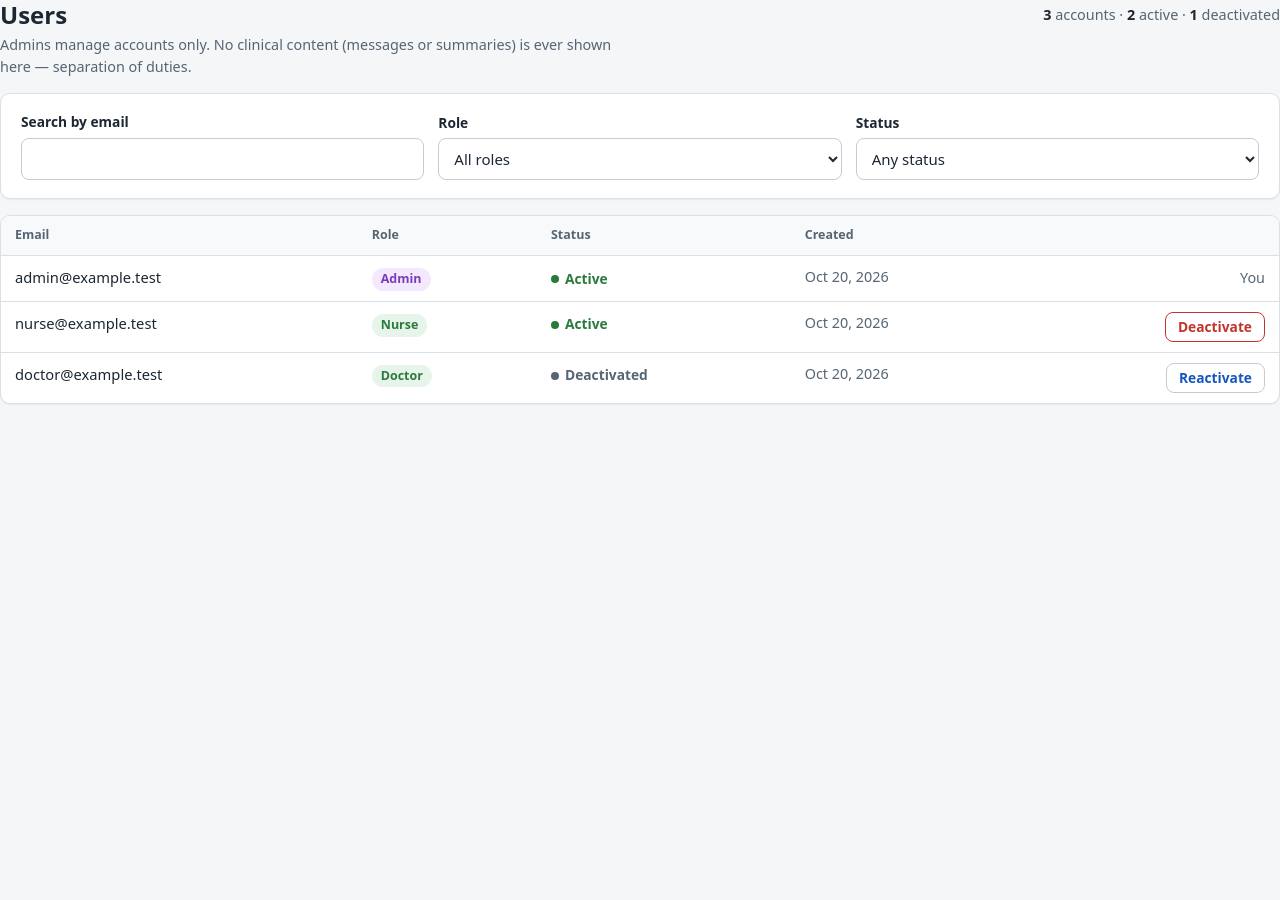
Test: AdminUsers screen › shows an action error when deactivation fails
Click the button "Deactivate" at (1215, 327), box [1165,312,1265,342]
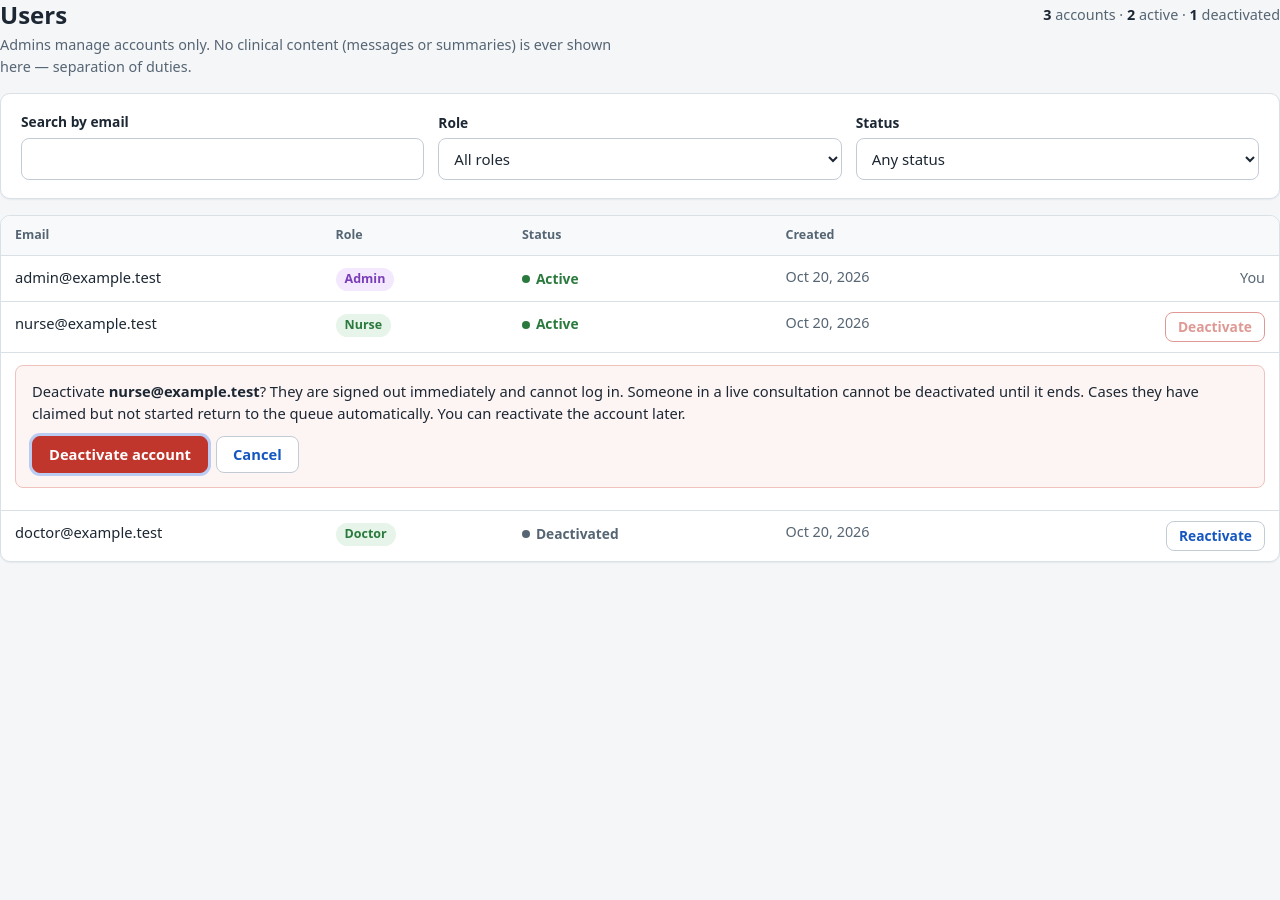
Click the button "Deactivate account" at (120, 454), box [32,436,208,473]
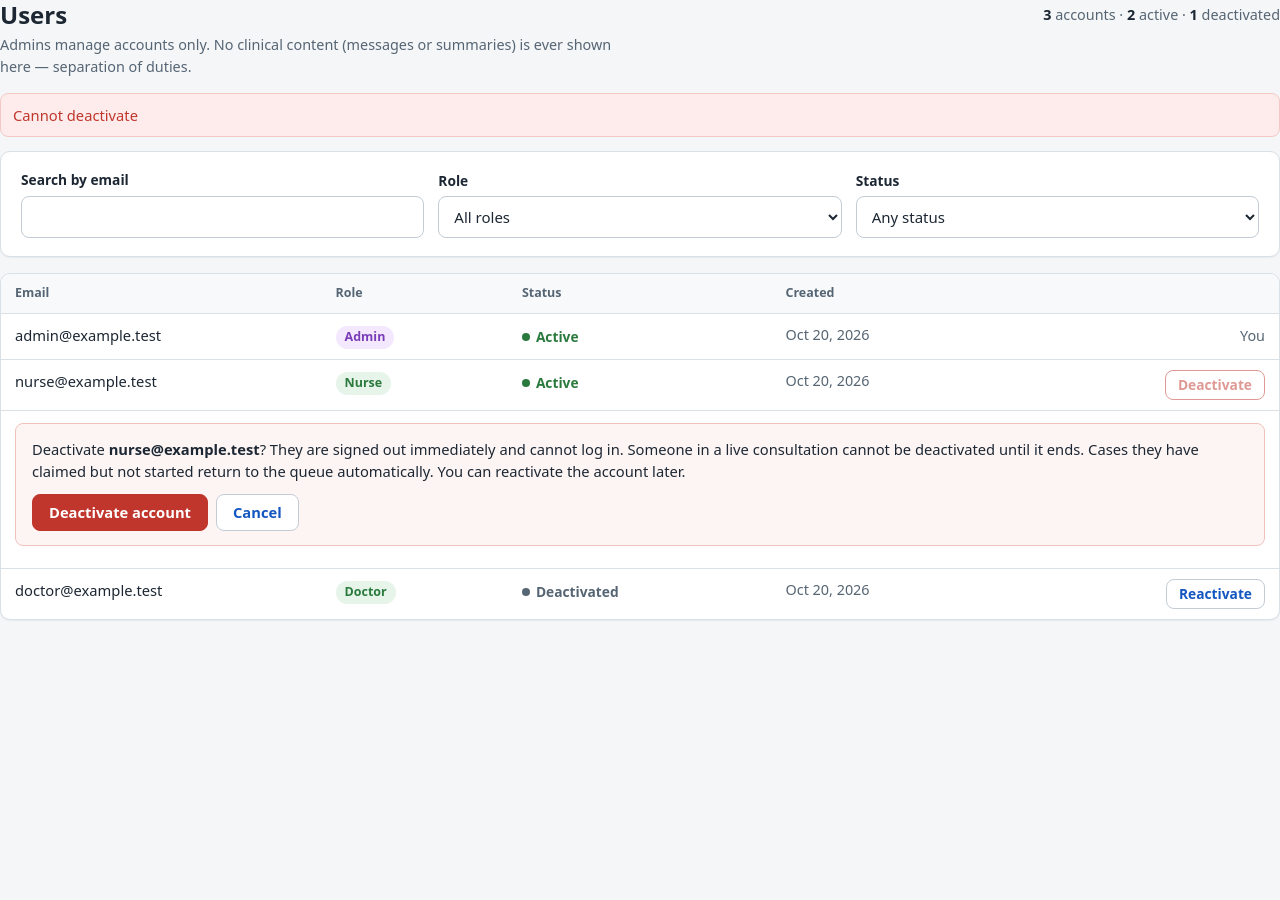
Now the text "Cannot deactivate" is shown, box [0,93,1279,137]
